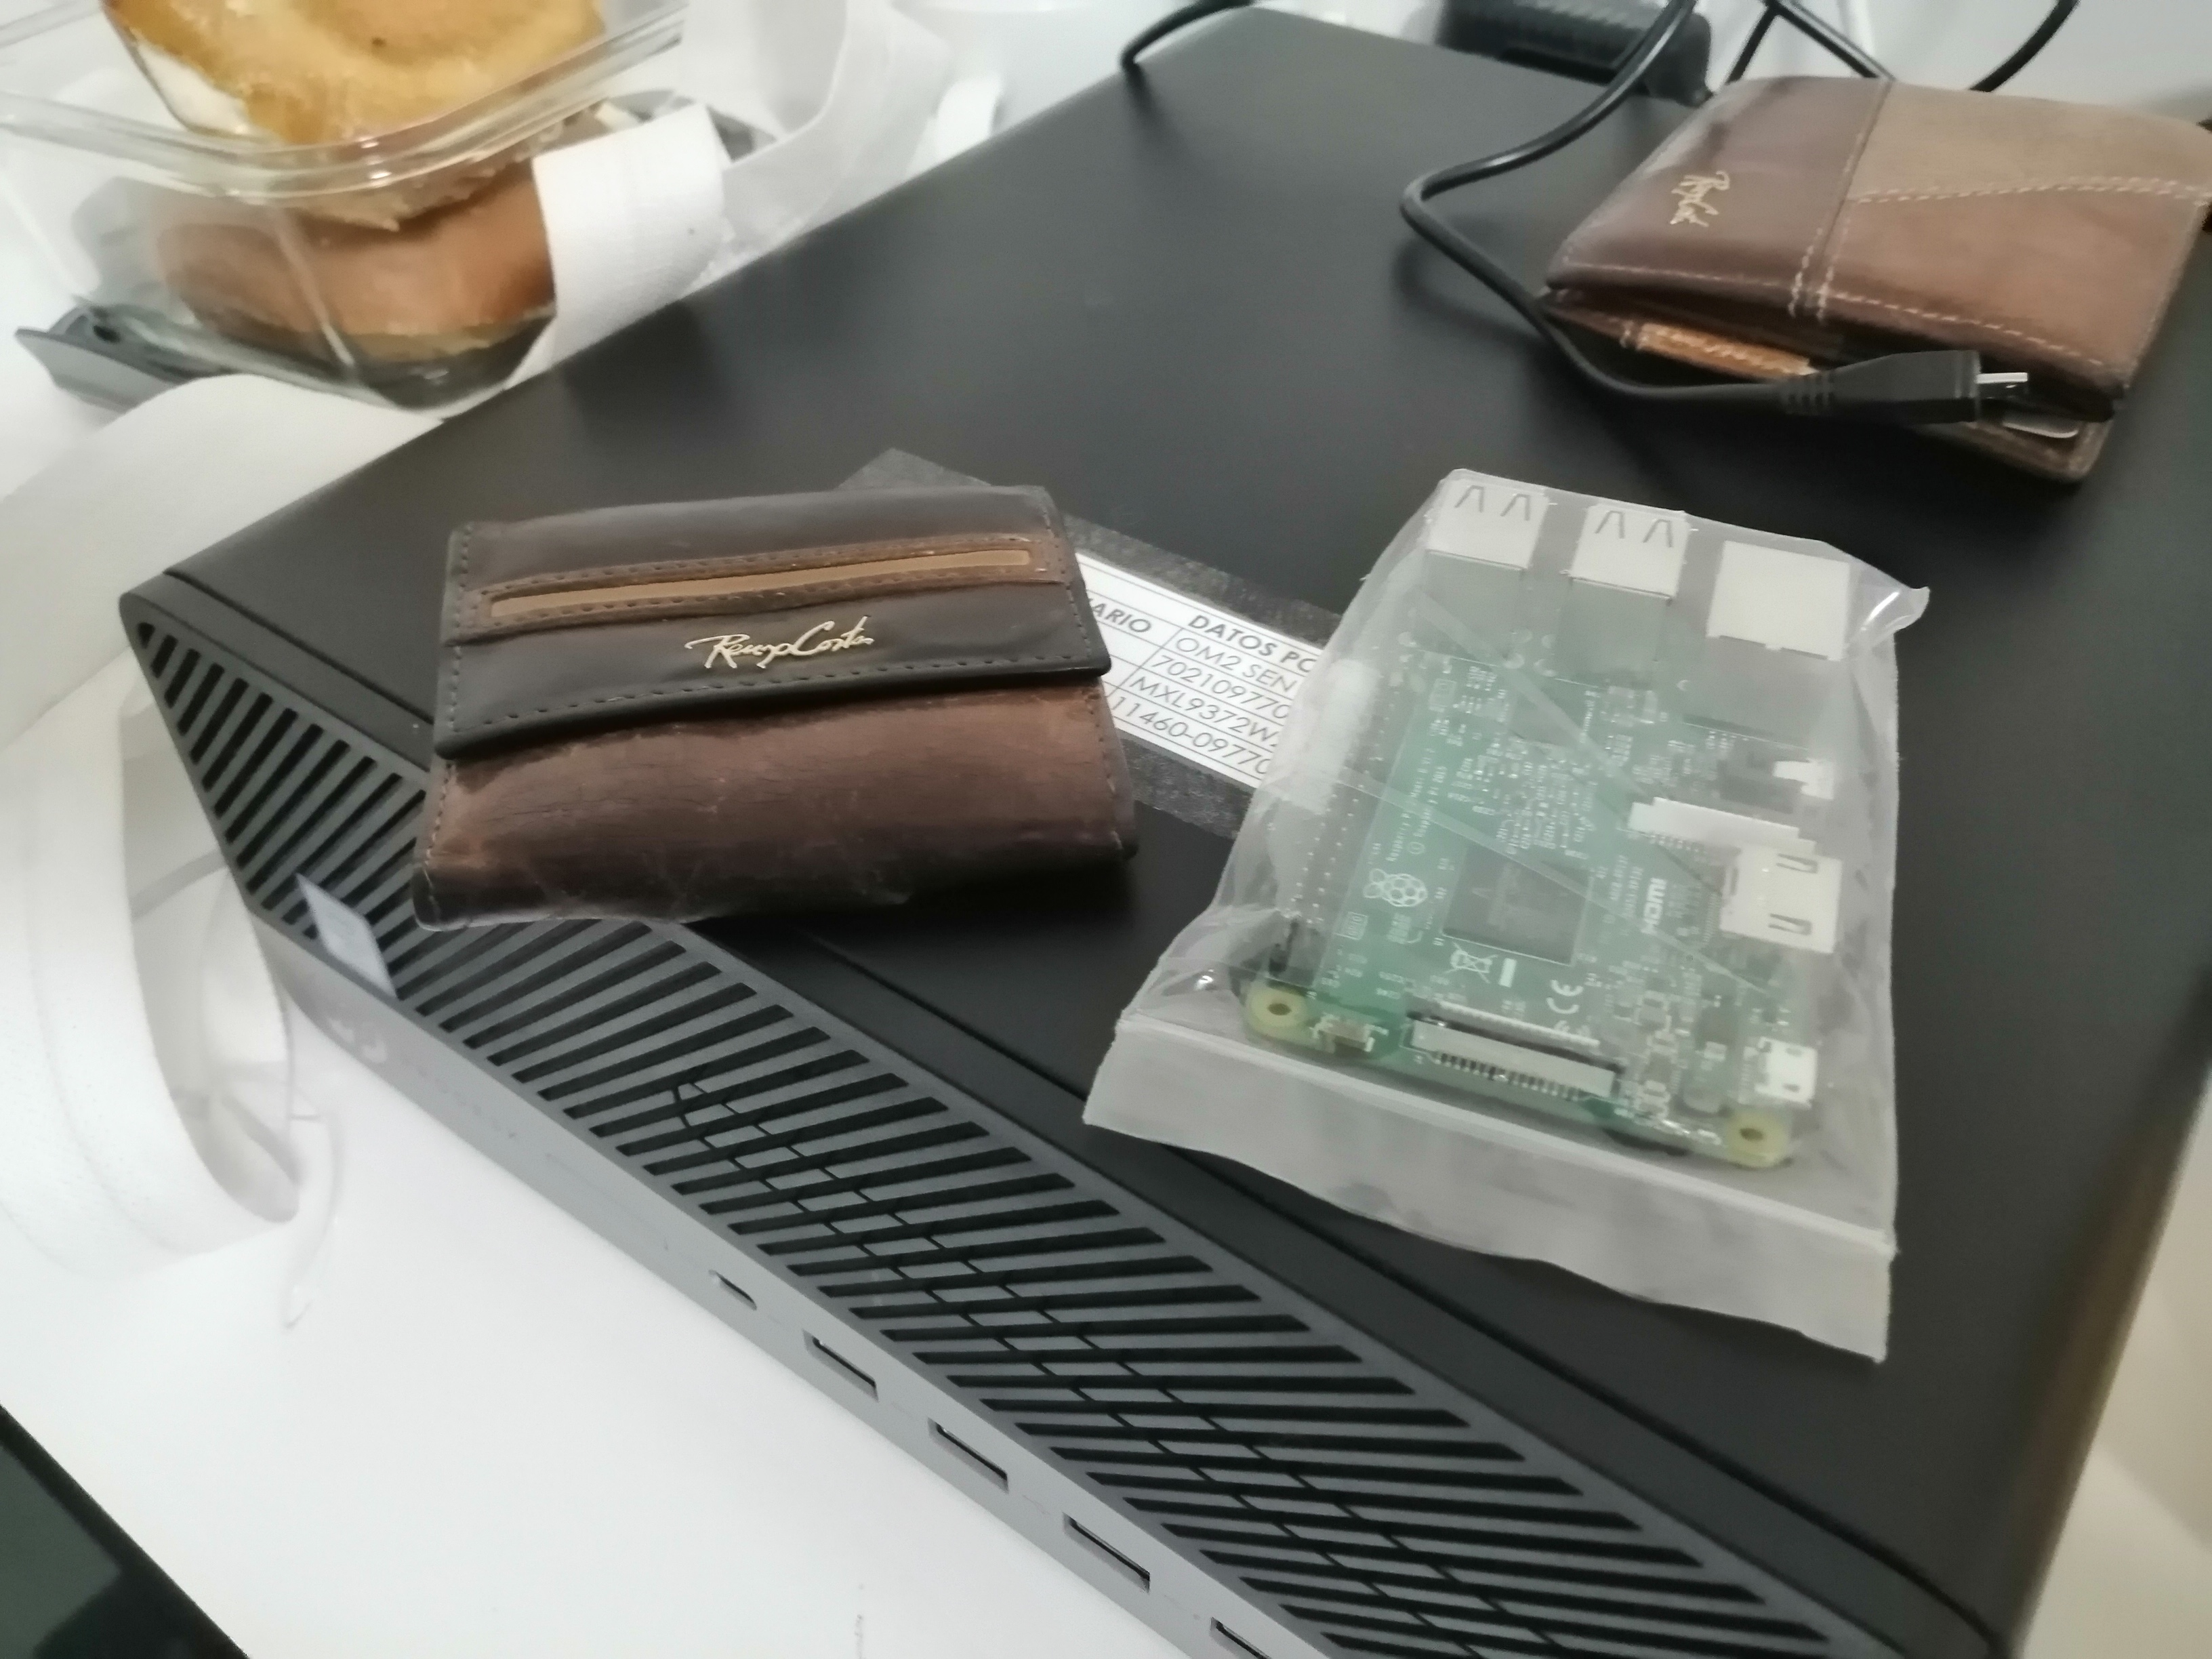monedero: (404, 471, 1186, 948)
